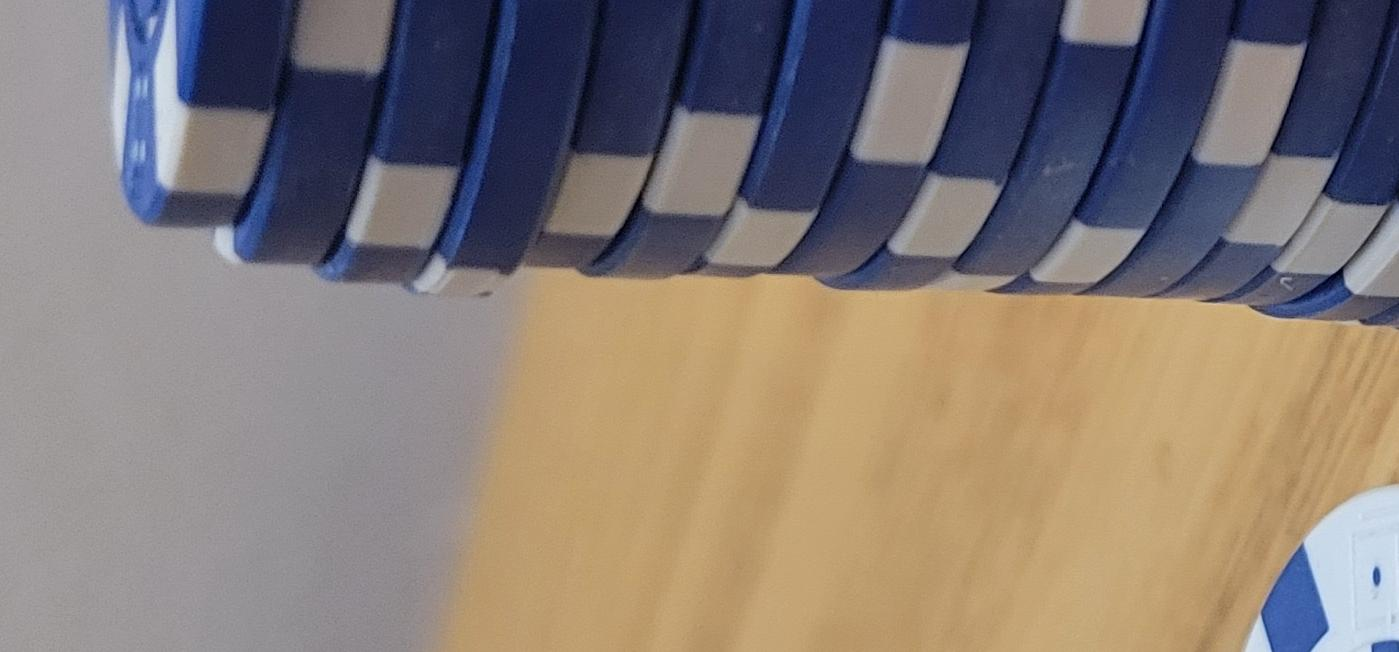Chip: (1, 404, 944, 652)
